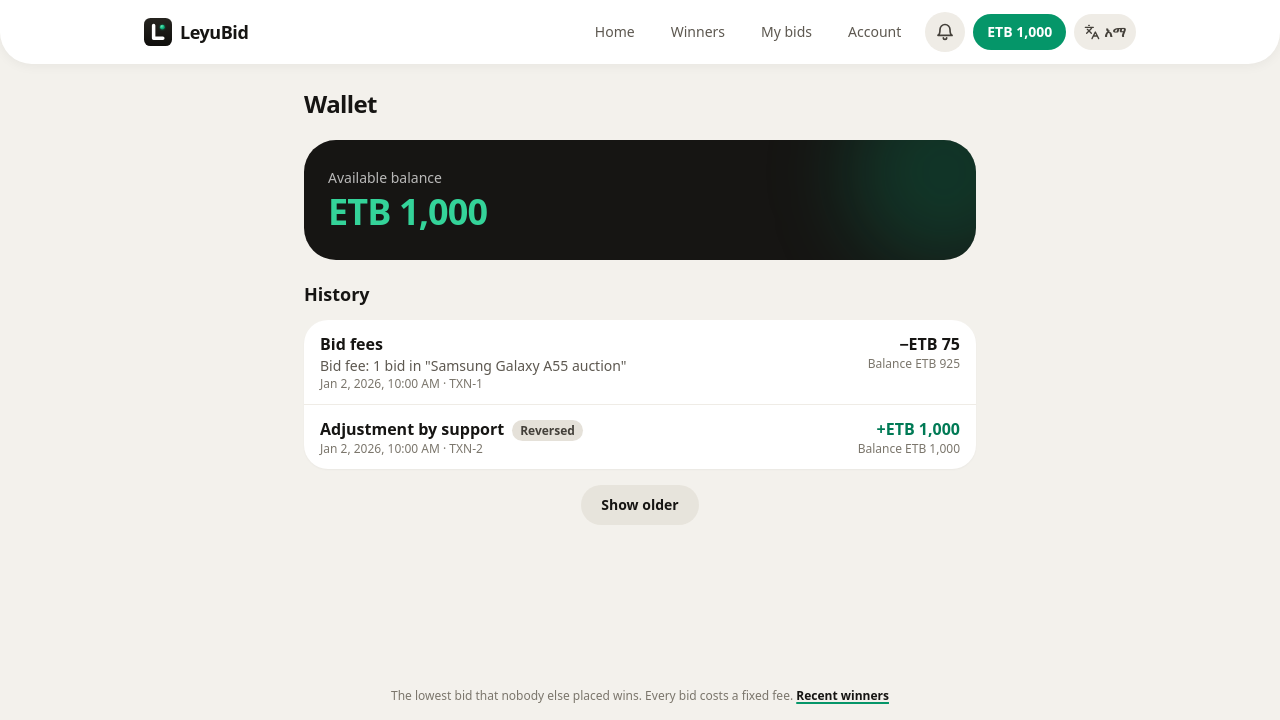
Test: wallet › shows the balance and the history, and loads older entries on request
This screenshot has width=1280, height=720.
Expected: the element "balance" shows "ETB 1,000", [328,187,487,236]
Expected: the element "balance" does not show "On hold", [304,140,976,260]
What coordinates should you click on to do the following:
click the button "Show older"
I would click on:
 (640, 505)
Its box is [581,485,699,525].
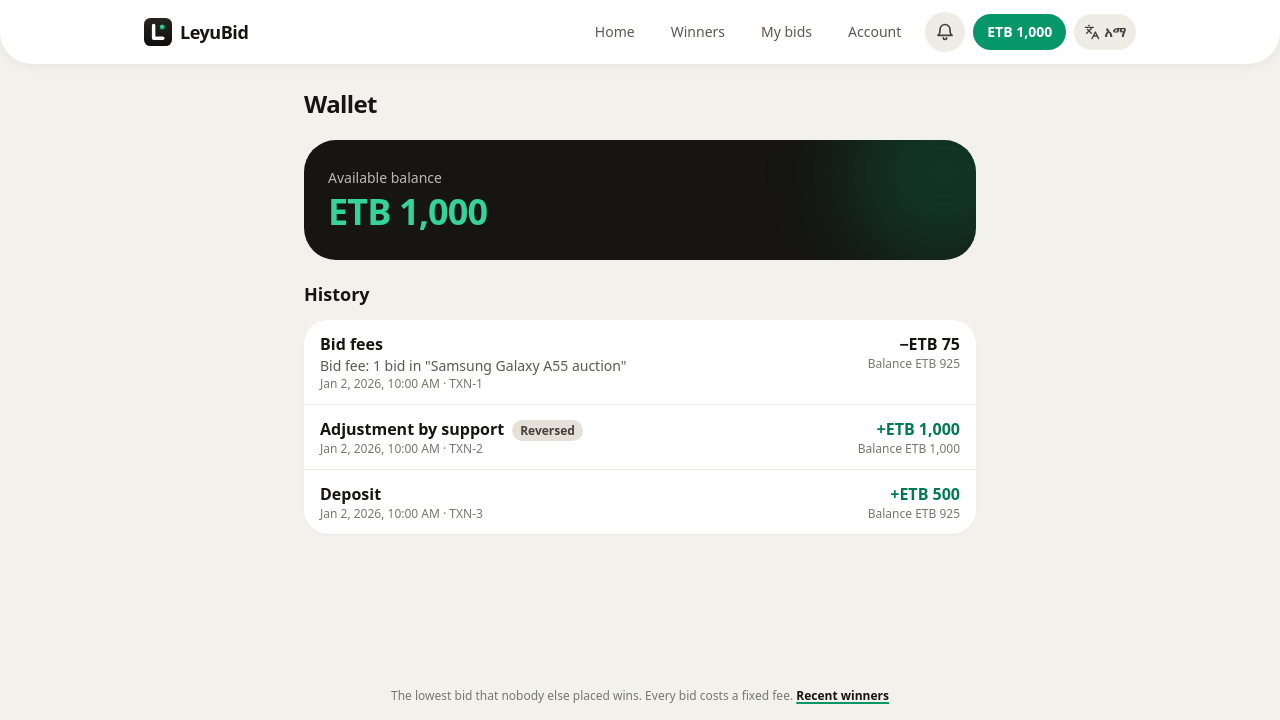
Expected: the text "Deposit" is shown, [320,483,381,505]
Expected: the number of list items is 3, [304,320,976,405]; [304,405,976,470]; [304,470,976,534]
Expected: the button "Show older" is gone
